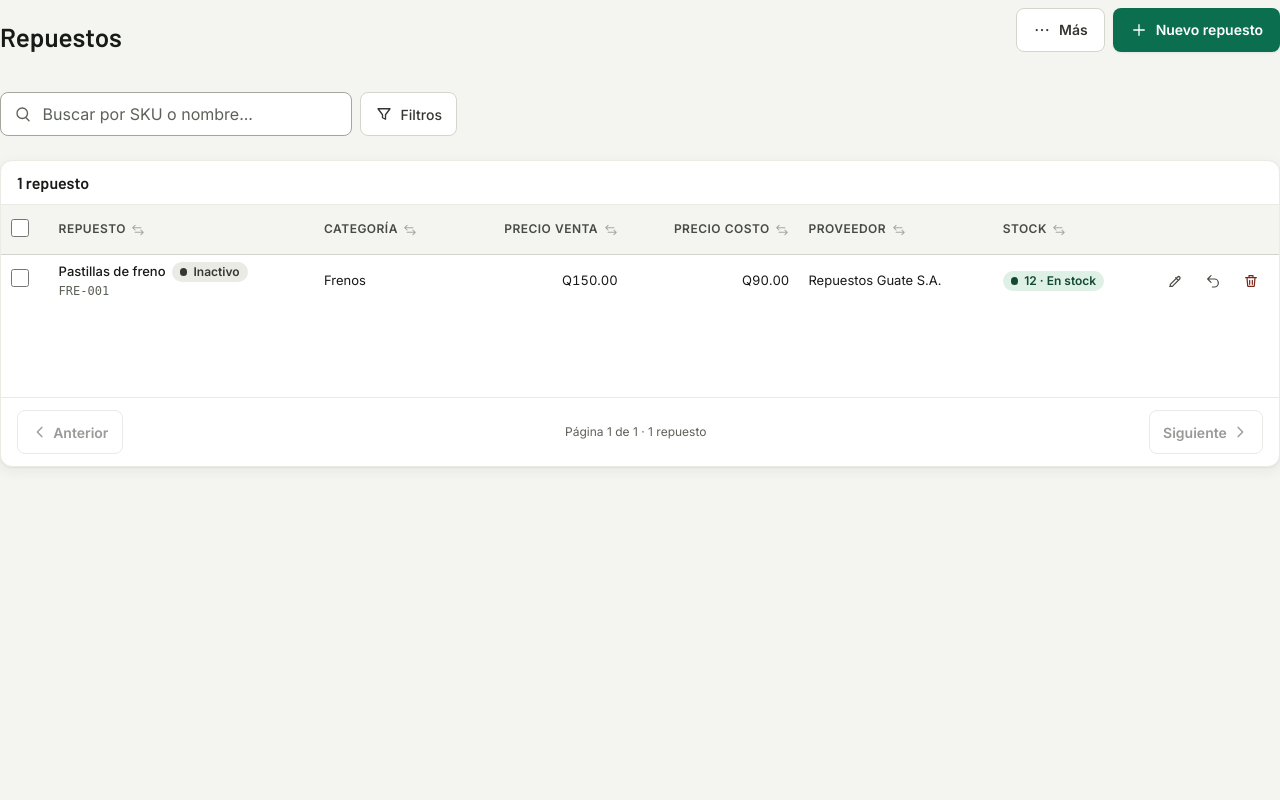
it: RepuestosPage › elimina de verdad un repuesto inactivo sin historial asociado
Click the button named "eliminar" at (1251, 281), box [1233, 263, 1269, 299]
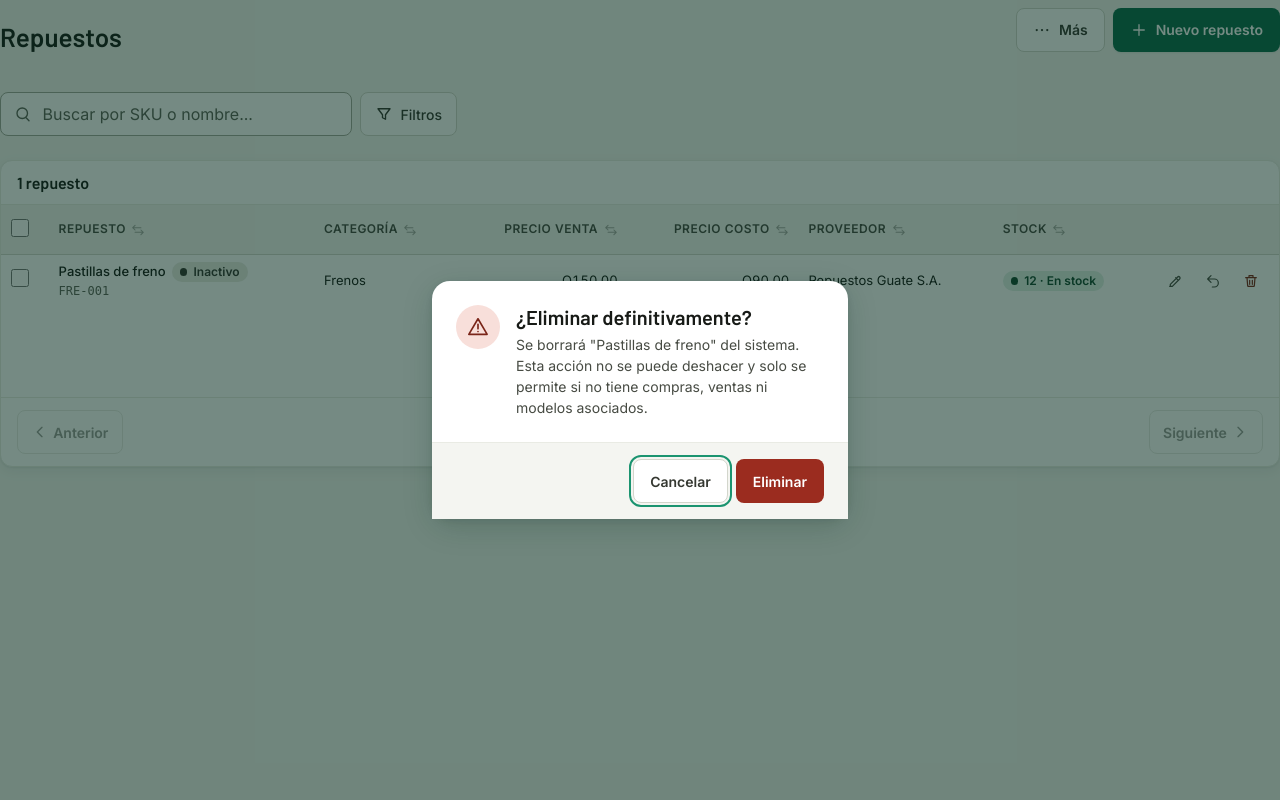
Click the button "Eliminar" at (780, 481), box [736, 459, 824, 503]
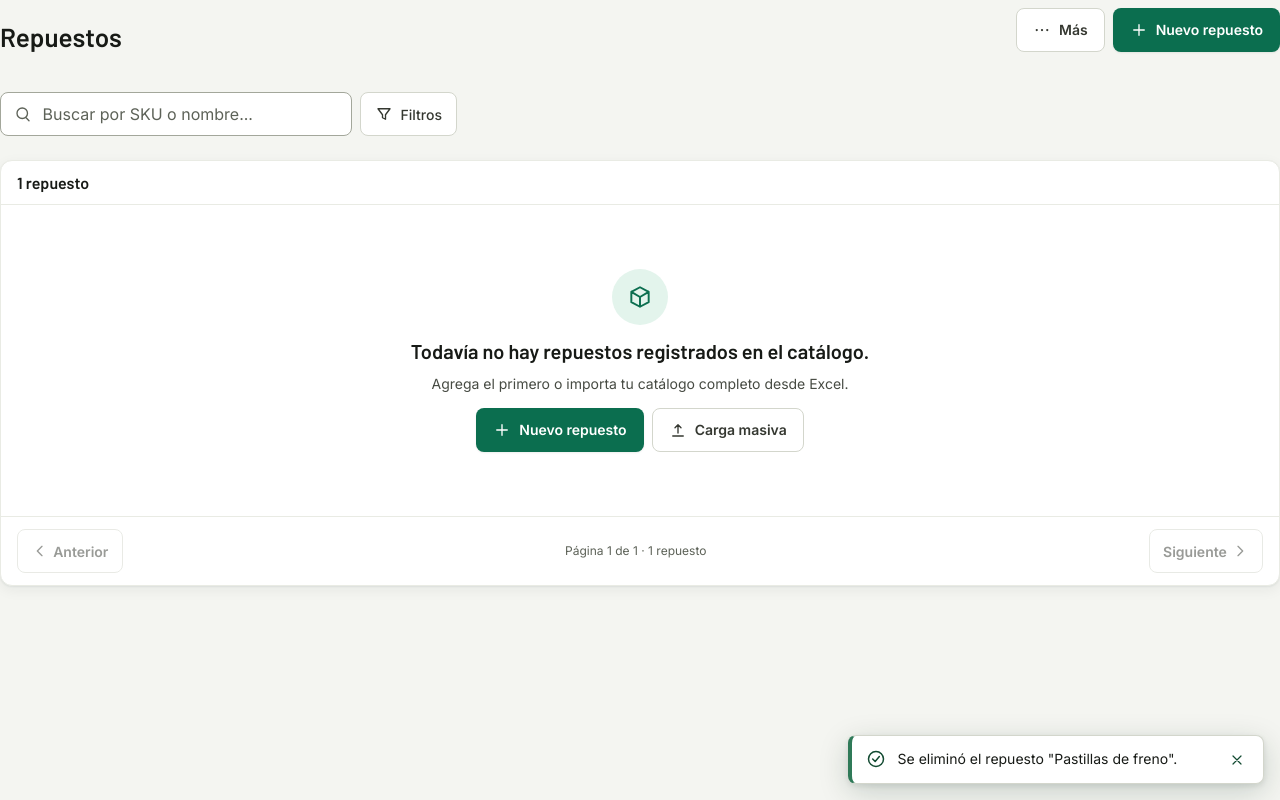
Now the text "Se eliminó el repuesto \"Pastillas de freno\"." is shown, box [898, 747, 1208, 769]
